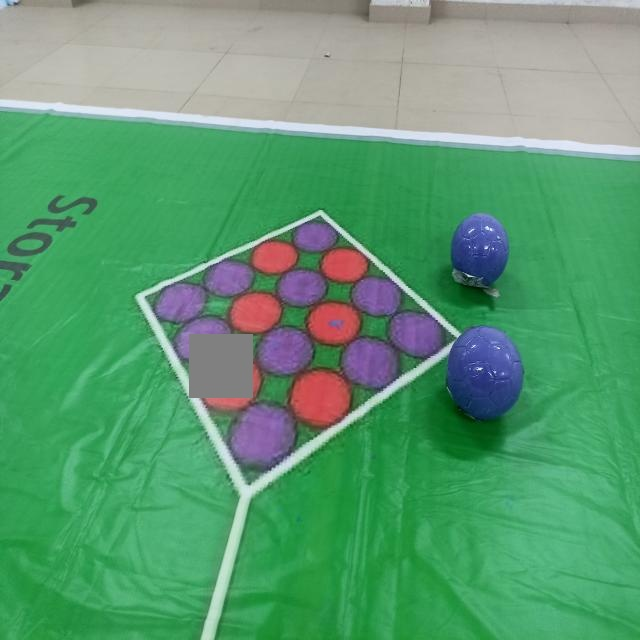purple_ball: (447, 326, 523, 419), (450, 214, 509, 286)
